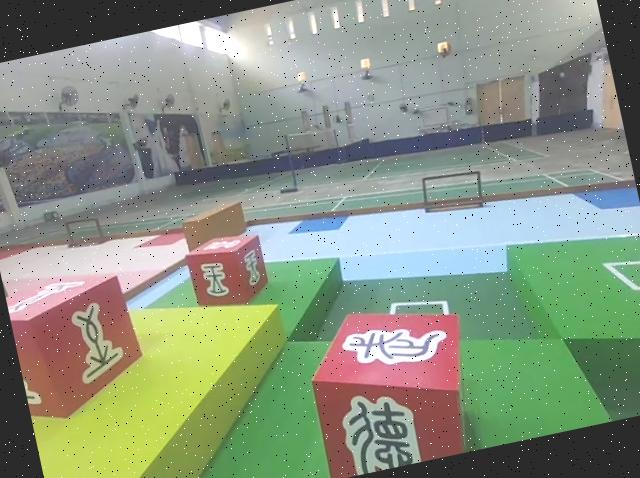R2 Fake: (290, 290, 483, 478)
R2 Real: (5, 267, 155, 425), (184, 227, 272, 312)
